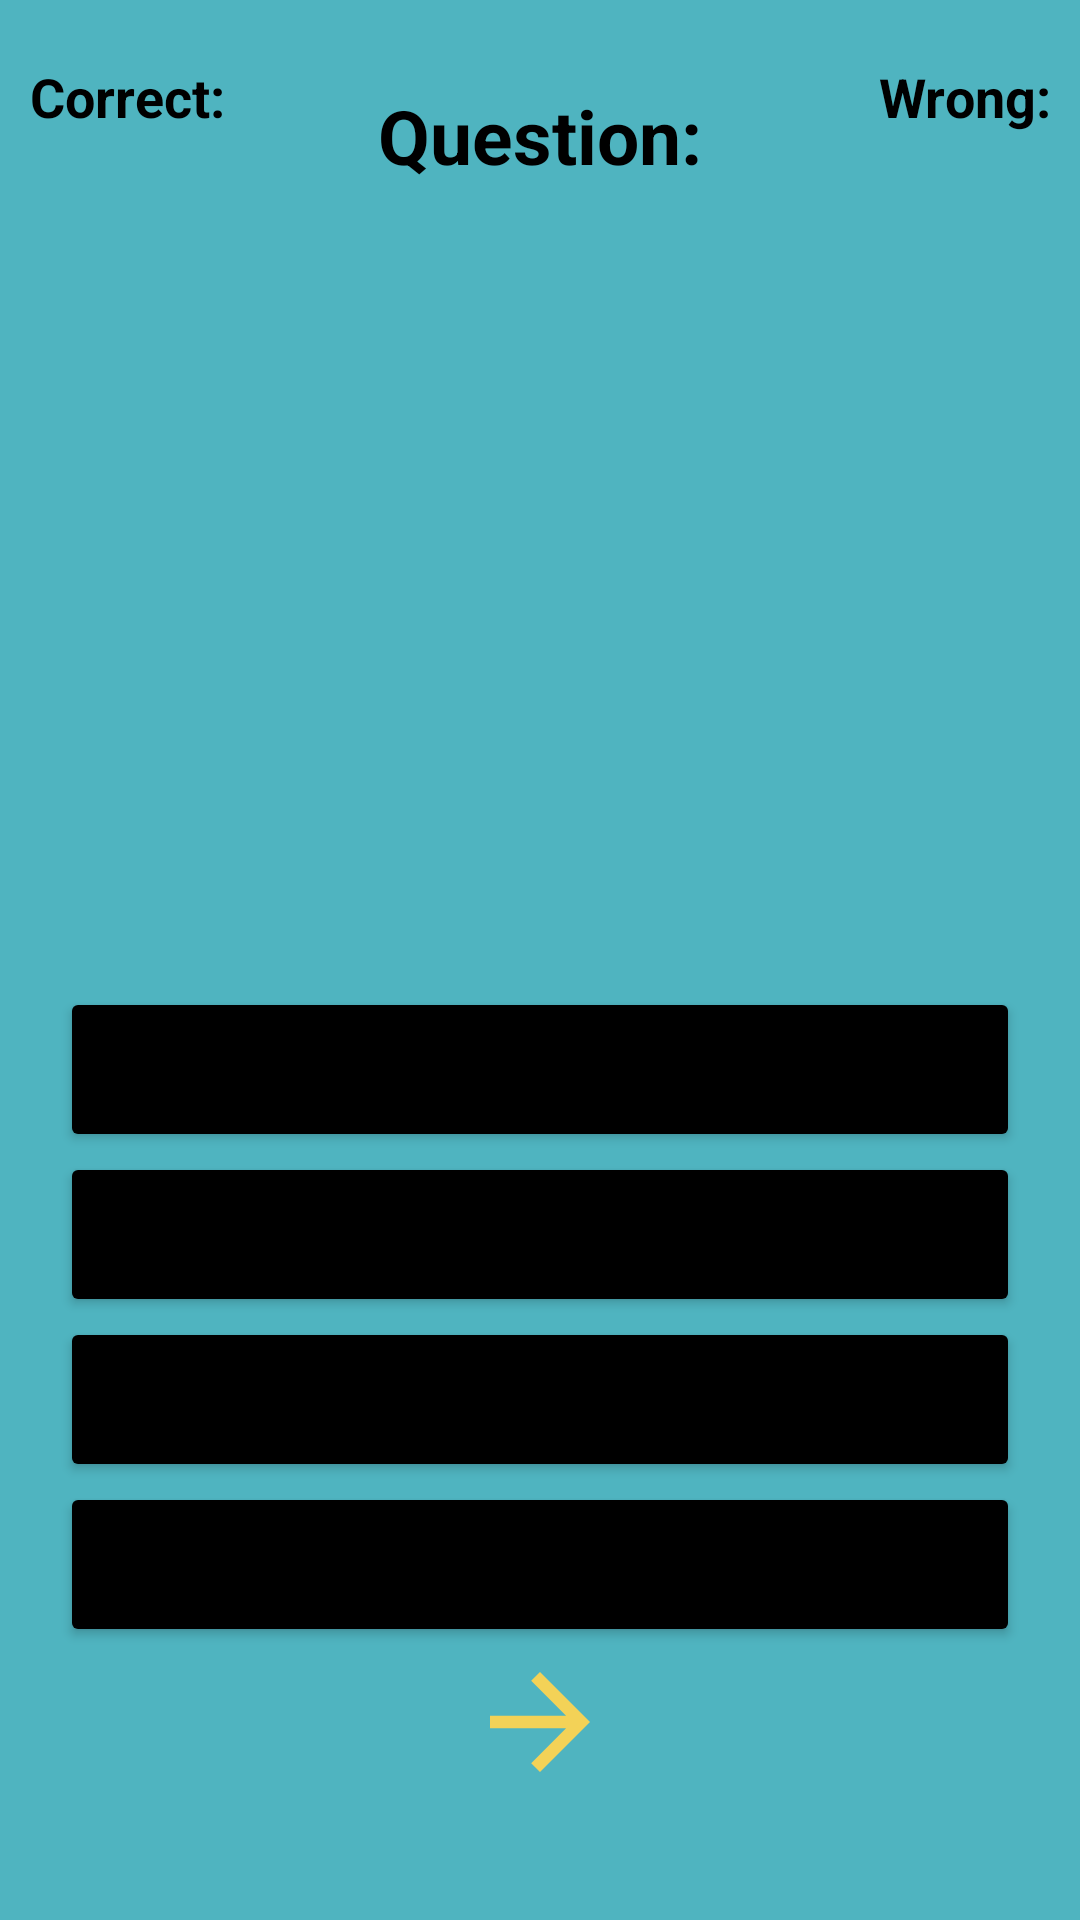

Point at icon controls on the screen. Image size 1080x1920, points as [x,y].
arrow forward: [540,1722]
